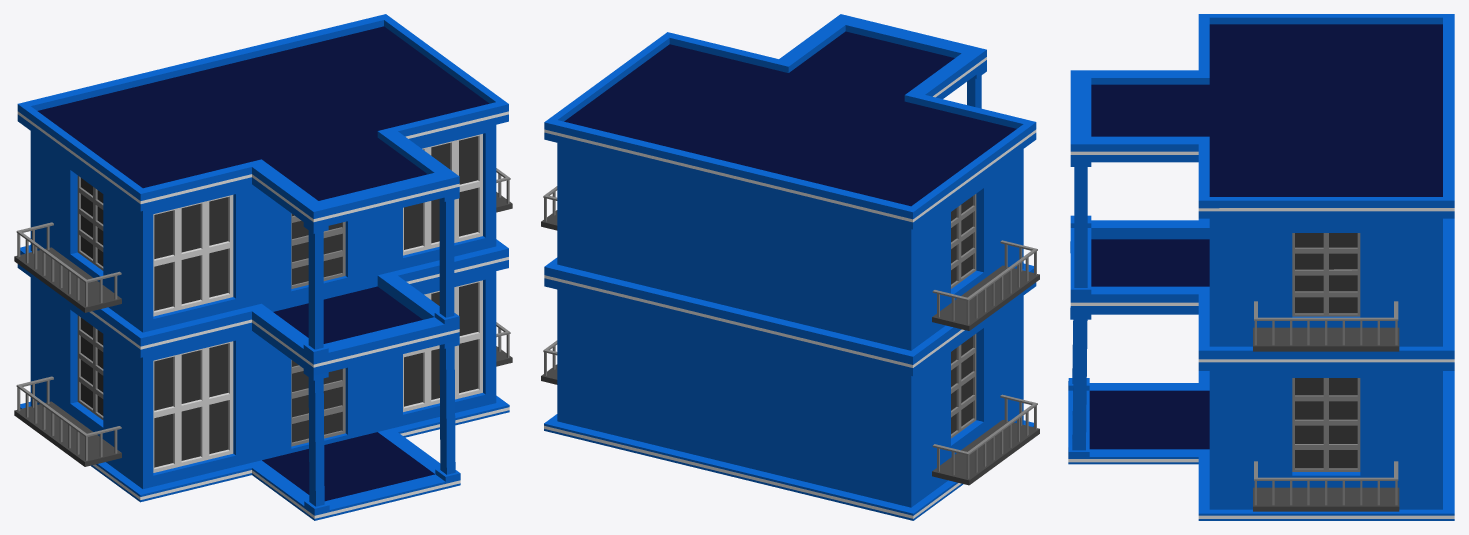
File: House_6.fbx
3 renders of one model, left to right at view 1: azimuth 30°, elevation 25°; view 2: azimuth 150°, elevation 25°; view 3: azimuth 270°, elevation 25°, orthographic. The views are drawn at different scales.
Visible parts, largest first — view 1: Cube; view 2: Cube; view 3: Cube.
Boxes of the visible parts, x1,y1,x2,y2 form: Cube: [14, 14, 512, 520]; Cube: [541, 14, 1039, 520]; Cube: [1068, 14, 1454, 520].
Bounding box in the file's own units: 755 × 520 × 568.
